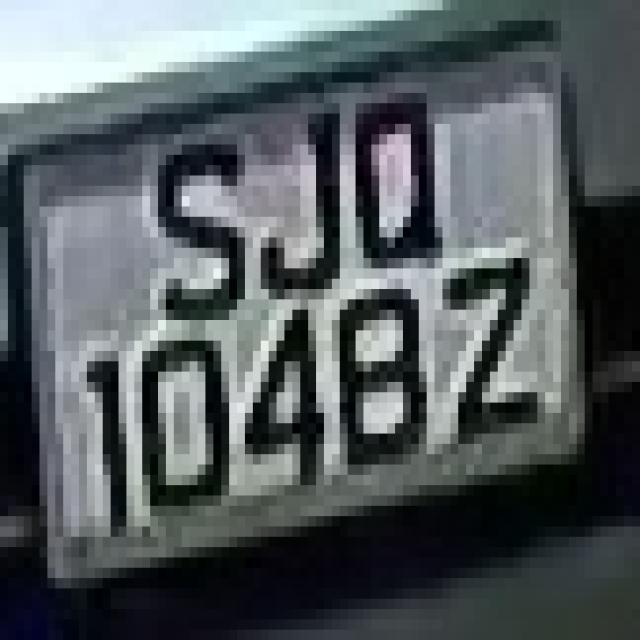0: (111, 320, 237, 526)
1: (79, 340, 142, 536)
4: (229, 258, 340, 506)
8: (308, 268, 419, 506)
J: (245, 72, 355, 279)
Q: (324, 72, 442, 289)
S: (134, 134, 253, 320)
Z: (411, 217, 553, 485)
